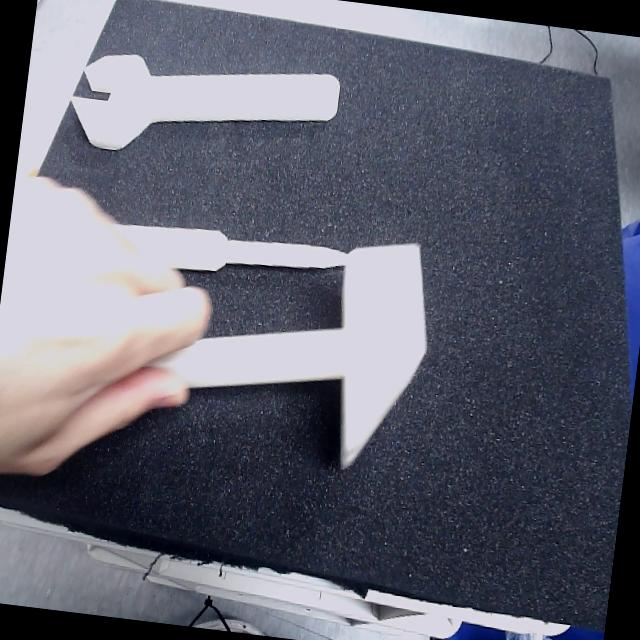Spanner: (69, 55, 341, 152)
